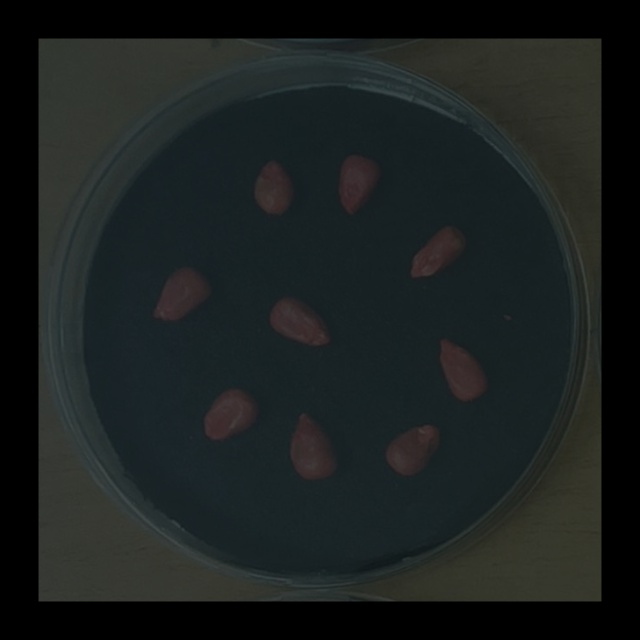Zea mays: (284, 405, 344, 486), (403, 216, 473, 285), (262, 290, 337, 354), (432, 332, 495, 407), (149, 259, 219, 325), (195, 380, 263, 447), (378, 416, 446, 482), (331, 146, 386, 219), (249, 152, 299, 220)
